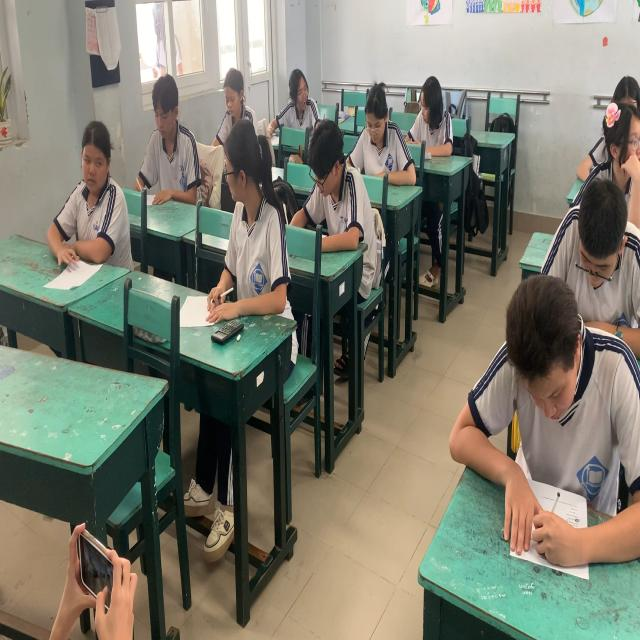cheating: (216, 119, 288, 334), (45, 110, 123, 306), (595, 98, 640, 185), (402, 78, 457, 147), (278, 68, 323, 141)
not_cheating: (442, 276, 621, 594), (134, 71, 202, 216), (564, 175, 632, 317), (294, 130, 362, 255), (350, 72, 401, 183), (212, 54, 249, 124)
